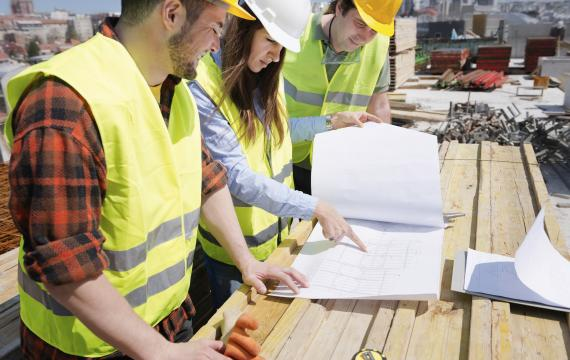hard hat: (244, 1, 311, 51), (355, 1, 403, 36), (215, 1, 256, 22)
high-vis: (4, 32, 203, 356), (188, 55, 294, 265), (284, 14, 390, 167)
